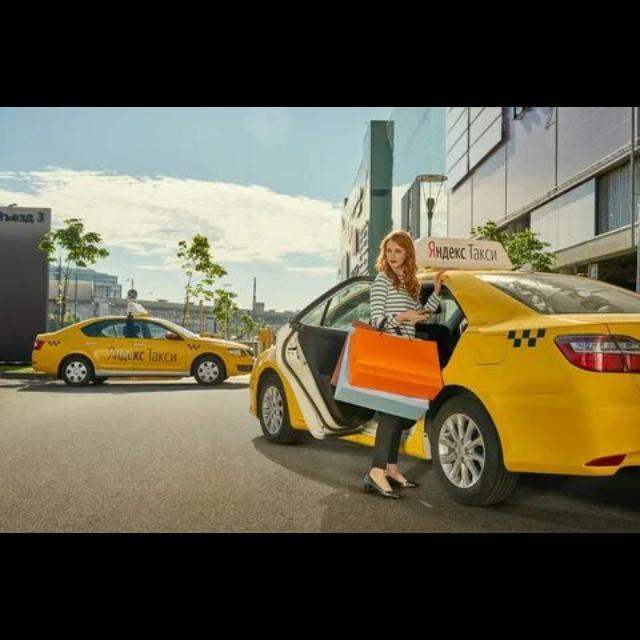taxi: (249, 239, 639, 507), (32, 306, 256, 388)
